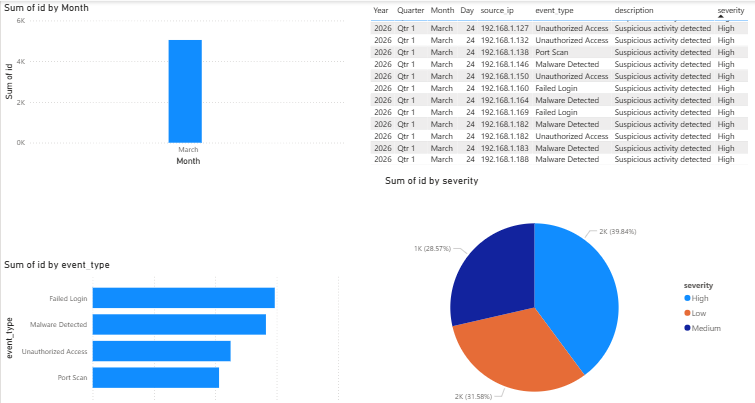

What the dashboard file says about the page in this screenshot:
{"tool":"powerbi","page":{"name":"Page 1","canvas":[1280,720],"ordinal":0},"visuals":[{"type":"barChart","fields":{"Category":["public security_logs.event_type"],"Y":["Sum(public security_logs.id)"]},"box":[0,431.1,584.2,279.5],"z":0},{"type":"ribbonChart","fields":{"Category":["public security_logs.timestamp.Variation.Date Hierarchy.Month","public security_logs.timestamp.Variation.Date Hierarchy.Day"],"Y":["Sum(public security_logs.id)"]},"box":[0,0,584.2,281.1],"z":1},{"type":"tableEx","fields":{"Values":["public security_logs.timestamp.Variation.Date Hierarchy.Year","public security_logs.timestamp.Variation.Date Hierarchy.Quarter","public security_logs.timestamp.Variation.Date Hierarchy.Month","public security_logs.timestamp.Variation.Date Hierarchy.Day","public security_logs.source_ip","public security_logs.event_type","public security_logs.description","public security_logs.severity"]},"box":[614.2,0,666.3,281.1],"z":2},{"type":"pieChart","fields":{"Category":["public security_logs.severity"],"Y":["Sum(public security_logs.id)"]},"box":[639.5,290.5,584.2,429.5],"z":3}]}

Visuals, with their boxes on the page's 1280x720 design canvas (x1, y1, x2, y2). These are canvas units, not pixel positions in the 755x403 screenshot, which may show the page scaled, cropped or inside an application window:
barChart - public security_logs.event_type x Sum(public security_logs.id): 0,431,584,711
ribbonChart - public security_logs.timestamp.Variation.Date Hierarchy.Month x public security_logs.timestamp.Variation.Date Hierarchy.Day: 0,0,584,281
tableEx - public security_logs.timestamp.Variation.Date Hierarchy.Year x public security_logs.timestamp.Variation.Date Hierarchy.Quarter: 614,0,1280,281
pieChart - public security_logs.severity x Sum(public security_logs.id): 640,290,1224,720
